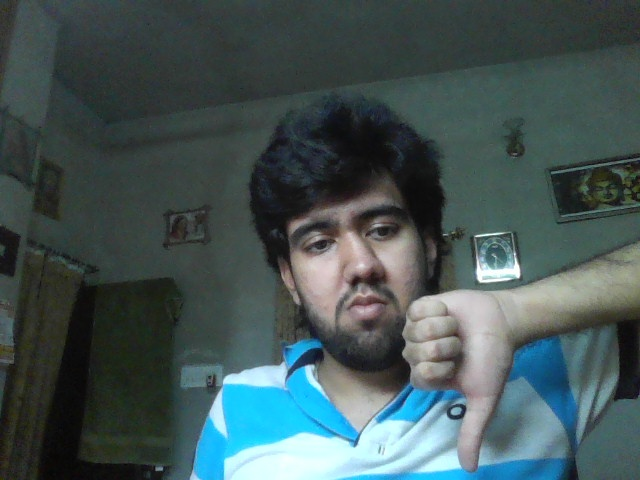NotOk: (402, 288, 507, 472)
